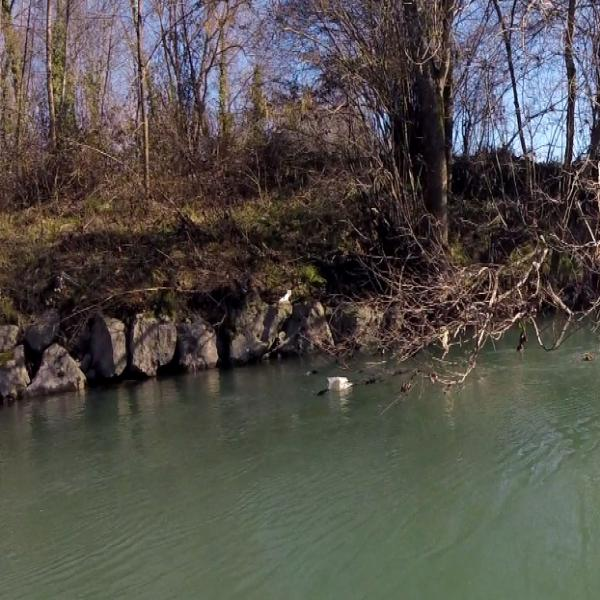others: (327, 375, 355, 391)
